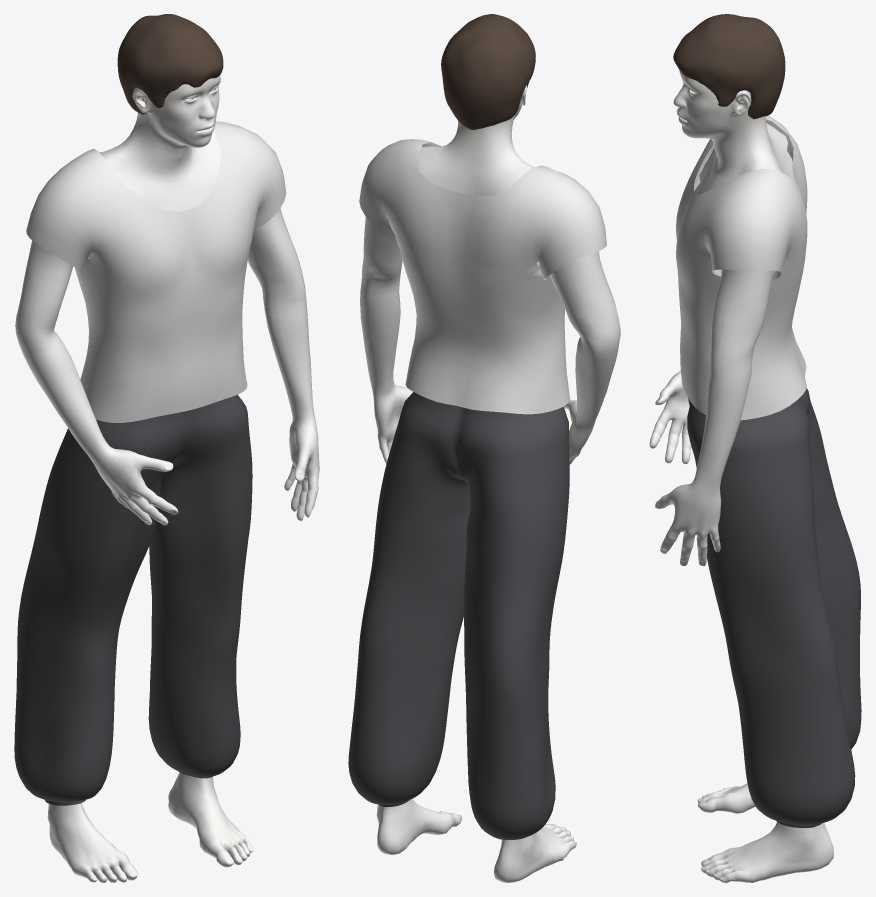
Rendered from mannequin-male-pocket.glb.
The picture shows the model from 3 angles, left to right: view 1: azimuth 30°, elevation 25°; view 2: azimuth 150°, elevation 25°; view 3: azimuth 270°, elevation 25°; orthographic projection. The views are drawn at different scales.
Parts seen in each view (by area): view 1: Pants, Shirt, Body, HairSculpt; view 2: Pants, Shirt, Body, HairSculpt; view 3: Pants, Body, Shirt, HairSculpt.
Boxes of the visible parts, box(x1,y1,x2,y2) form: Pants: box(14, 394, 252, 805); Shirt: box(26, 121, 286, 422); Body: box(15, 75, 319, 882); HairSculpt: box(117, 14, 223, 114); Pants: box(348, 392, 569, 839); Shirt: box(359, 139, 606, 414); Body: box(360, 85, 620, 882); HairSculpt: box(441, 14, 535, 130); Pants: box(687, 388, 861, 827); Body: box(649, 70, 833, 882); Shirt: box(676, 115, 807, 420); HairSculpt: box(673, 14, 785, 119).
Bounding box in the file's own units: 0.6466 × 1.92 × 0.4444.
